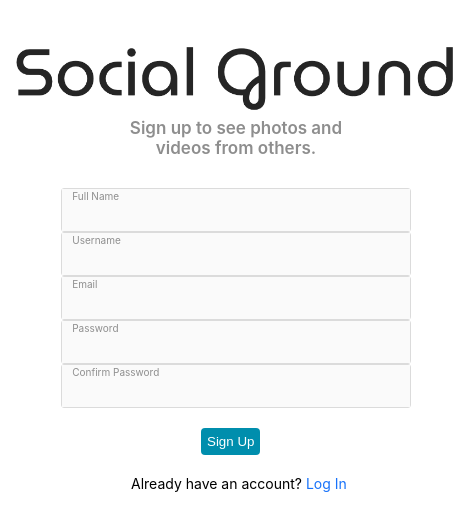
Test that we can create a new user › type in user information, test missing information
Type "Banana" into the field with id "formInput6".
click(236, 210); type("Banana")  # box [70, 195, 402, 224]
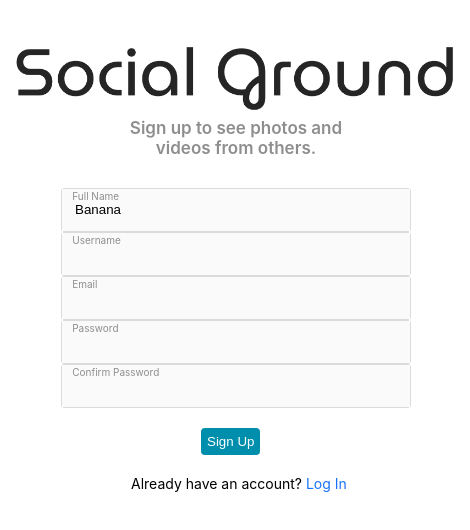
Type "testing123@gmail" into the field with id "formInput7".
click(236, 298); type("testing123@gmail")  # box [70, 283, 402, 312]
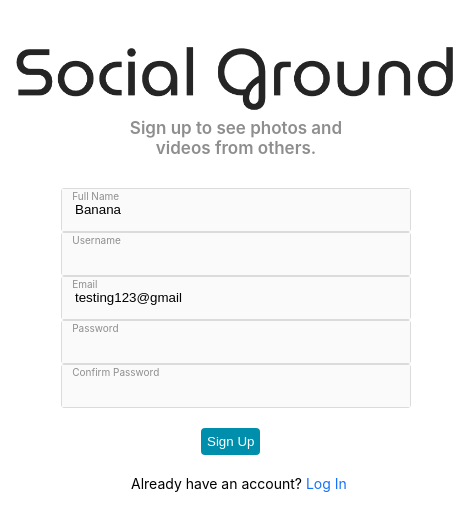
Type "testPW" into the password field with id "formInput8".
click(236, 342); type("testPW")  # box [70, 327, 402, 356]
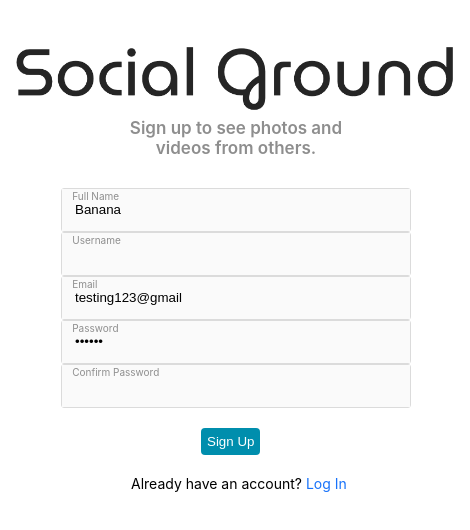
Type "testPW" into the password field with id "formInput9".
click(236, 386); type("testPW")  # box [70, 371, 402, 400]
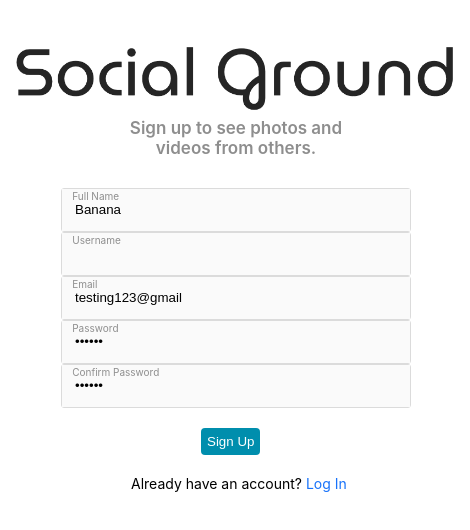
// click on the login button
Click the button "Sign Up".
click(231, 442)  # box [201, 428, 260, 455]
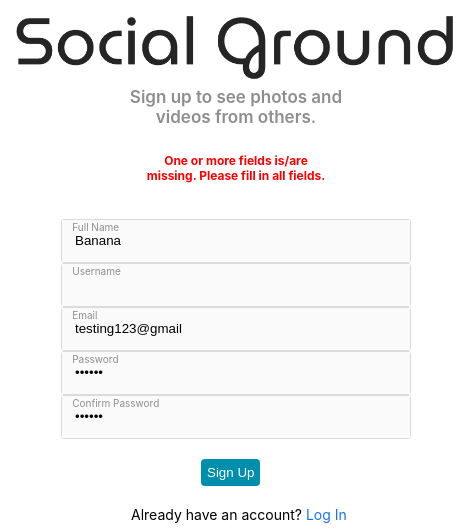
Result: the heading "One or more fields is/are missing. Please fill in all fields." is shown at [141, 153, 331, 183]
